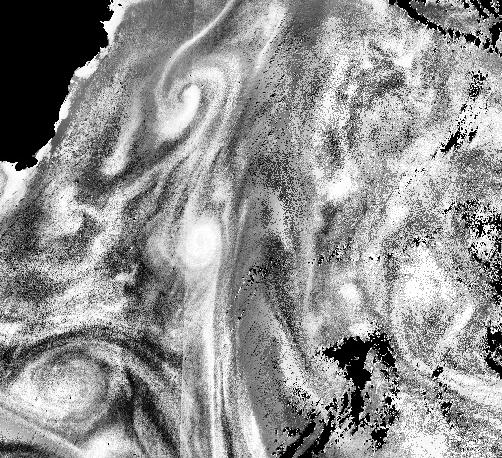CE: (8, 334, 128, 430), (155, 51, 236, 130), (168, 204, 232, 272)
